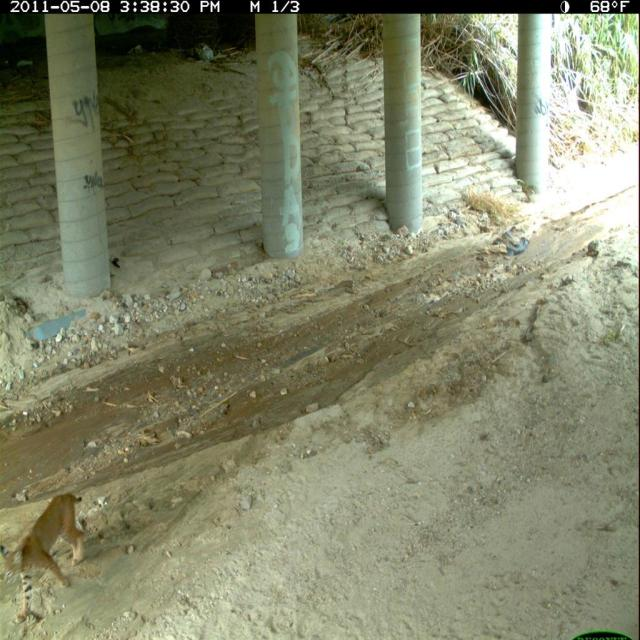bobcat: (3, 490, 89, 629)
